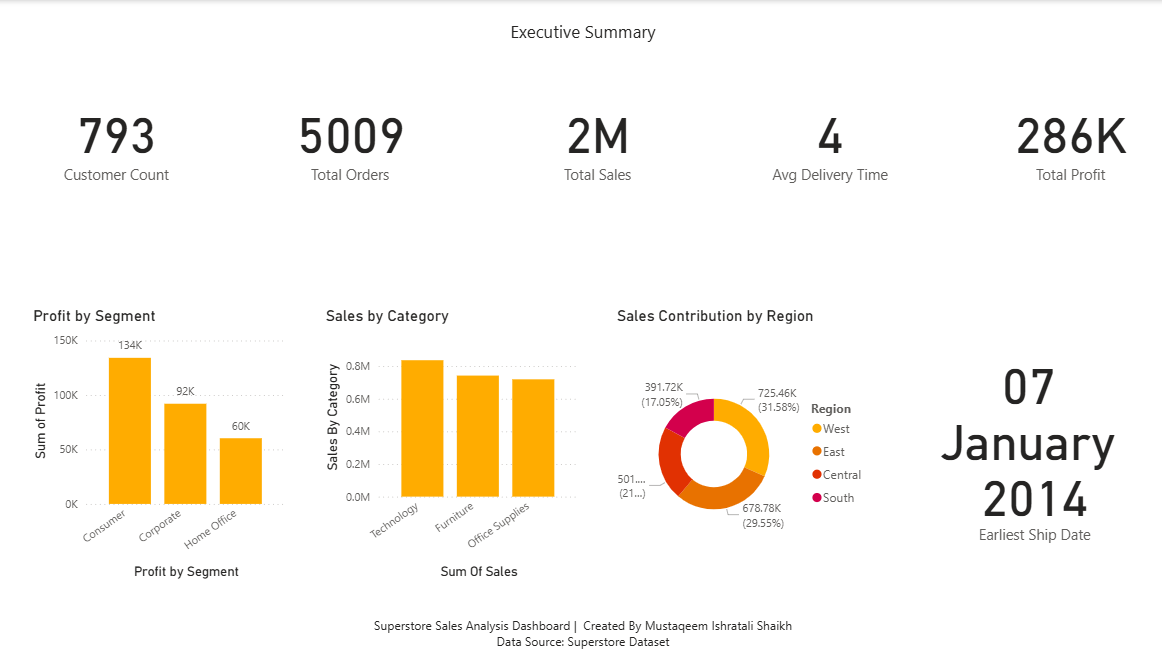

The page's visual inventory and layout, read from the dashboard file:
{"tool":"powerbi","page":{"name":"Executive Summary","canvas":[1280,720],"ordinal":0},"visuals":[{"type":"card","fields":{"Values":["Sample - Superstore.Customer Count"]},"box":[0,64,256,176],"z":0},{"type":"card","fields":{"Values":["Min(Sample - Superstore.Ship Date)"]},"box":[992,336,288,304],"z":1000},{"type":"card","fields":{"Values":["Sample - Superstore.Total Orders"]},"box":[256,64,256,176],"z":2000},{"type":"card","fields":{"Values":["Sample - Superstore.Total Profit"]},"box":[1072,64,208,176],"z":3000},{"type":"card","fields":{"Values":["Sample - Superstore.Total Sales"]},"box":[528,64,256,176],"z":4000},{"type":"card","fields":{"Values":["Sample - Superstore.Avg Delivery Time"]},"box":[784,64,256,176],"z":5000},{"type":"clusteredColumnChart","title":"Sales by Category","fields":{"Category":["Sample - Superstore.Category"],"Y":["Sum(Sample - Superstore.Sales)"]},"box":[352,336,288,304],"z":6000},{"type":"donutChart","title":"Sales Contribution by Region","fields":{"Category":["Sample - Superstore.Region"],"Y":["Sum(Sample - Superstore.Sales)"]},"box":[672,336,288,304],"z":7000},{"type":"clusteredColumnChart","title":"Profit by Segment","fields":{"Category":["Sample - Superstore.Segment"],"Y":["Sum(Sample - Superstore.Profit)"]},"box":[32,336,288,304],"z":8000},{"type":"textbox","box":[0,16,1280,48],"z":8001},{"type":"textbox","box":[0,672,1280,48],"z":8002}]}

Visuals, with their boxes in screenshot pixels (x1, y1, x2, y2), scaled from the page's 1280x720 canvas onto the 1162x652 screenshot:
card - Sample - Superstore.Customer Count: select_region(0, 58, 232, 217)
card - Min(Sample - Superstore.Ship Date): select_region(901, 304, 1161, 580)
card - Sample - Superstore.Total Orders: select_region(232, 58, 465, 217)
card - Sample - Superstore.Total Profit: select_region(973, 58, 1161, 217)
card - Sample - Superstore.Total Sales: select_region(479, 58, 712, 217)
card - Sample - Superstore.Avg Delivery Time: select_region(712, 58, 944, 217)
"Sales by Category" clusteredColumnChart: select_region(320, 304, 581, 580)
"Sales Contribution by Region" donutChart: select_region(610, 304, 872, 580)
"Profit by Segment" clusteredColumnChart: select_region(29, 304, 290, 580)
textbox: select_region(0, 14, 1161, 58)
textbox: select_region(0, 609, 1161, 651)
